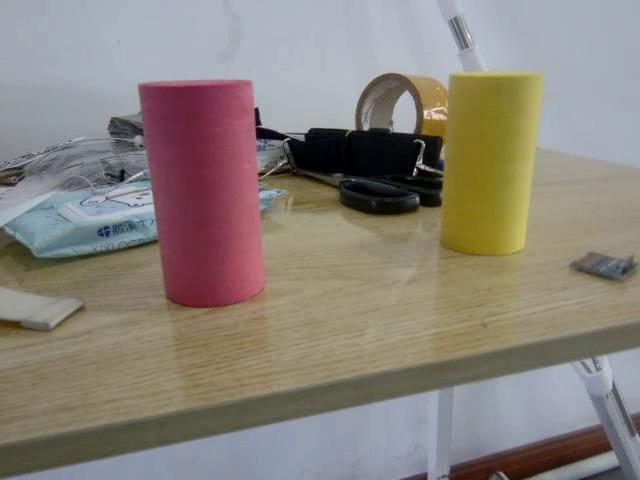red_cylinder: (139, 81, 264, 307)
yellow_cylinder: (444, 72, 540, 254)
